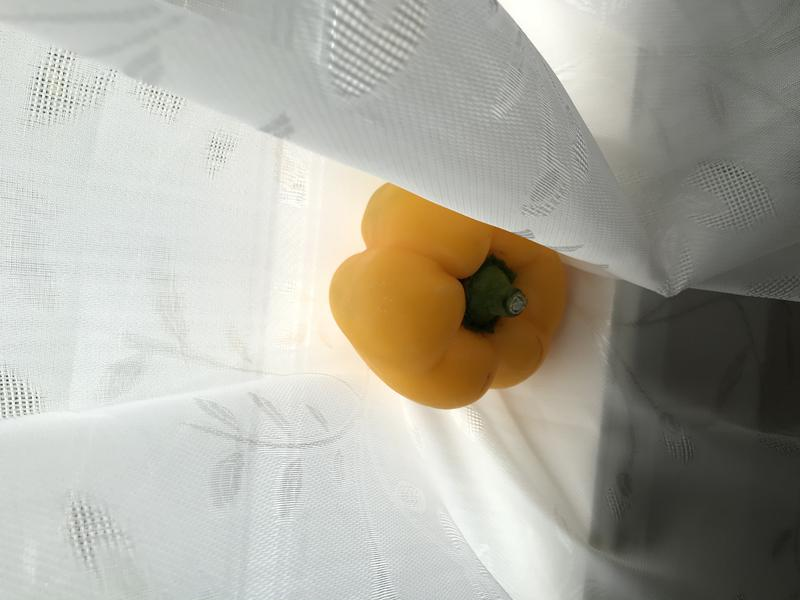yellow_pepper: (319, 155, 583, 418)
